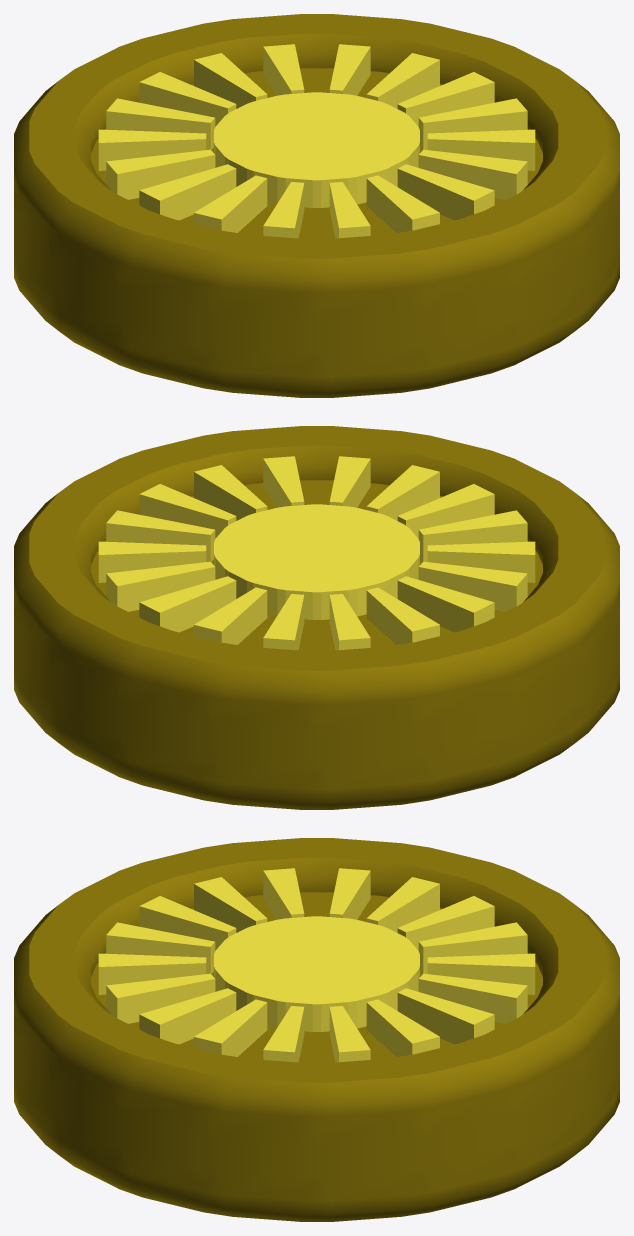
File: Coin001.FBX
3 renders of one model, top to bottom at view 1: azimuth 30°, elevation 25°; view 2: azimuth 150°, elevation 25°; view 3: azimuth 270°, elevation 25°, orthographic.
Visible parts, largest first — view 1: Coin; view 2: Coin; view 3: Coin.
Part boxes in pixels (box(x1,y1,x2,y2)): Coin: box(14, 14, 619, 397); Coin: box(14, 426, 619, 809); Coin: box(14, 838, 619, 1221).
Bounding box in the file's own units: 0.4 × 0.1 × 0.3939.
